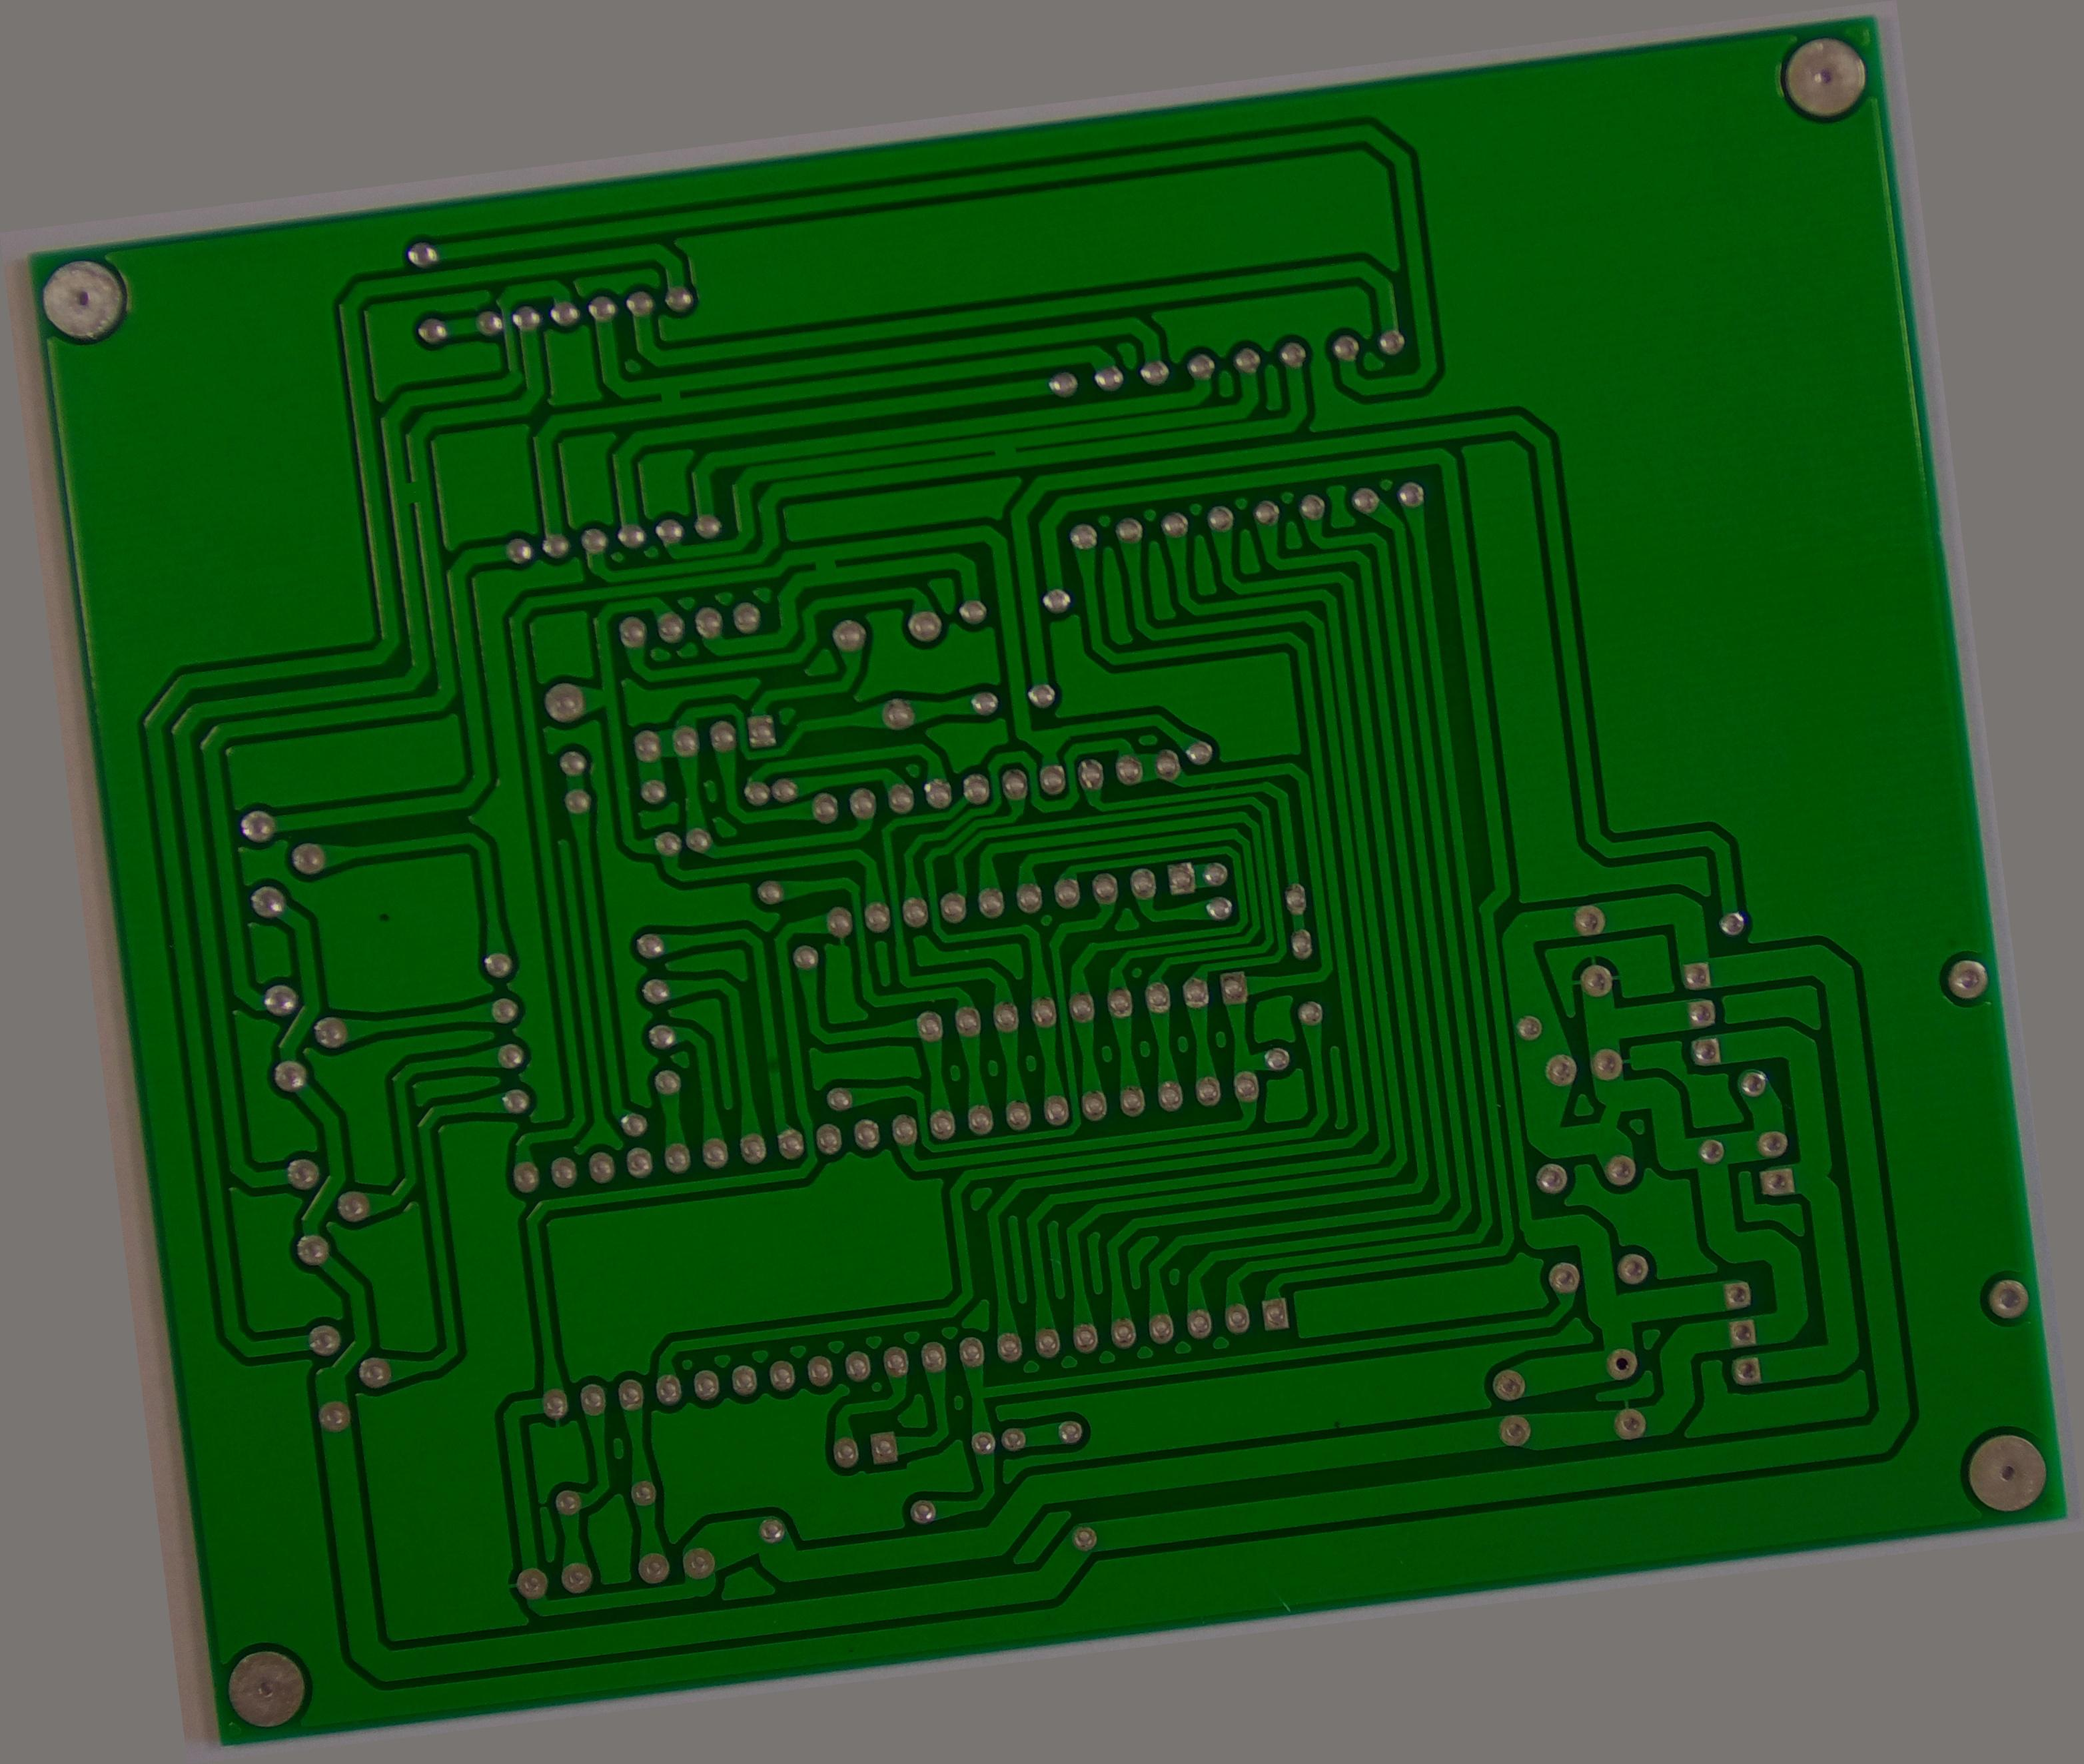short: (642, 369, 696, 422), (1582, 1088, 1634, 1141), (975, 432, 1034, 474), (803, 541, 850, 591), (385, 471, 436, 514)
